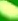white: (0, 0, 18, 21)
